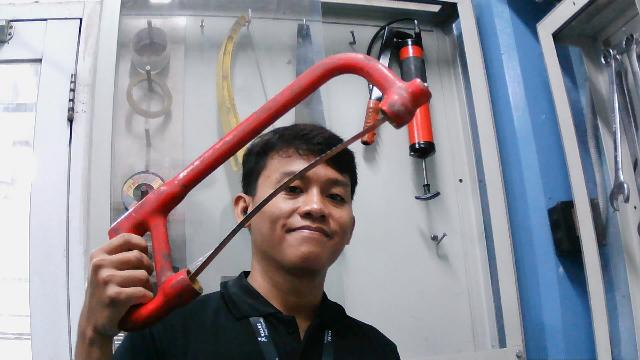gergaji_besi: (105, 50, 435, 339)
